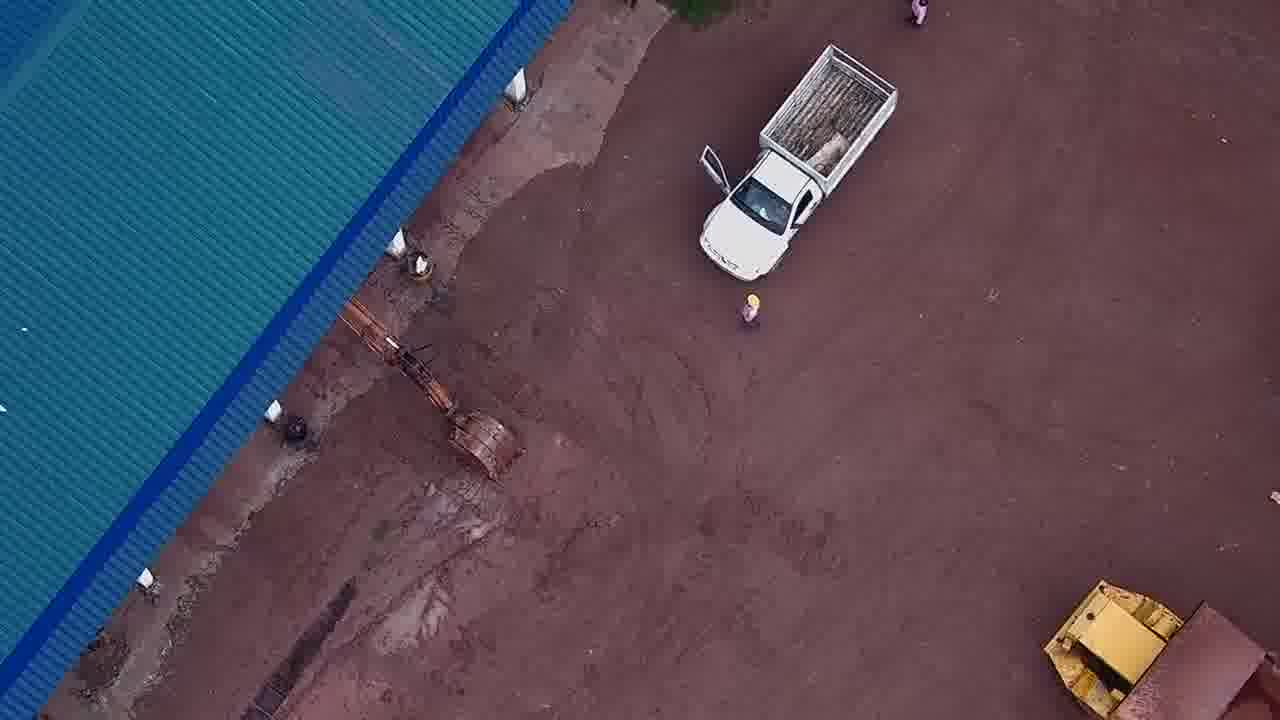light_motor_vehicle: (697, 42, 903, 282)
person: (737, 290, 764, 332), (902, 1, 933, 29)
